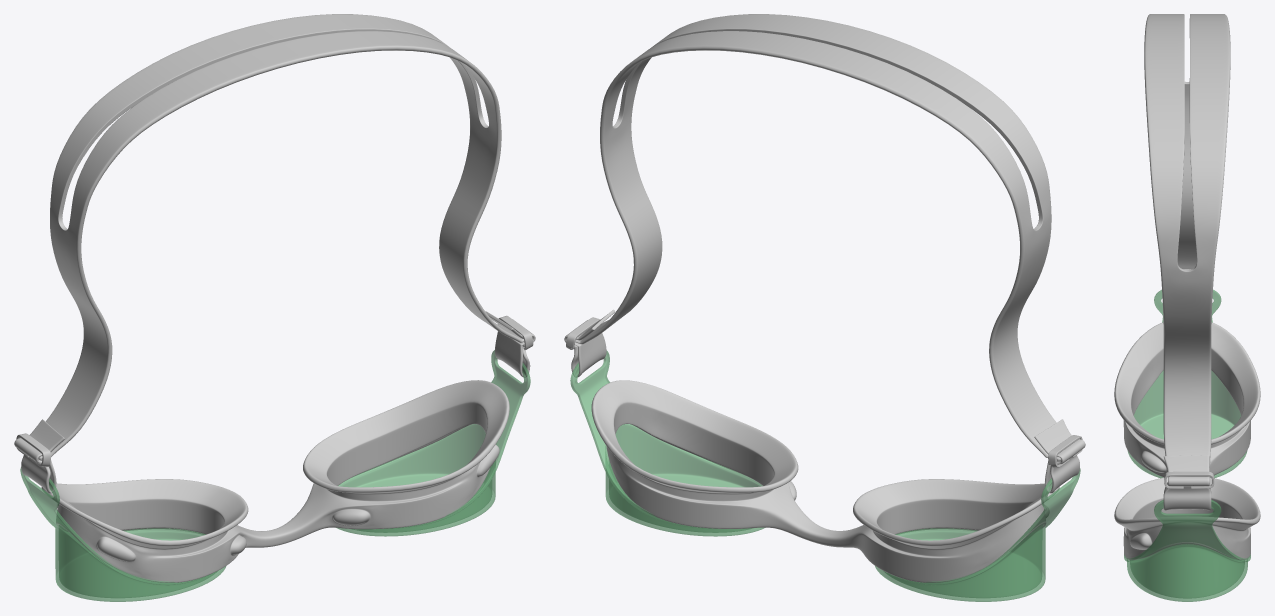
Rendered from goggles.obj.
The picture shows the model from 3 angles, left to right: view 1: azimuth 30°, elevation 25°; view 2: azimuth 150°, elevation 25°; view 3: azimuth 270°, elevation 25°; orthographic projection. The views are drawn at different scales.
Parts seen in each view (by area): view 1: 13514_Child_s_Goggles_v1, 13514_Child_s_Goggles_v1_glass; view 2: 13514_Child_s_Goggles_v1, 13514_Child_s_Goggles_v1_glass; view 3: 13514_Child_s_Goggles_v1, 13514_Child_s_Goggles_v1_glass.
Part boxes in pixels (x1,y1,x2,y2): 13514_Child_s_Goggles_v1: (14,14,535,582); 13514_Child_s_Goggles_v1_glass: (20,350,530,601); 13514_Child_s_Goggles_v1: (564,14,1085,582); 13514_Child_s_Goggles_v1_glass: (570,350,1080,601); 13514_Child_s_Goggles_v1: (1114,14,1260,559); 13514_Child_s_Goggles_v1_glass: (1124,289,1250,601).
Size of the model in its own units: 22.69 by 21.73 by 6.29.
